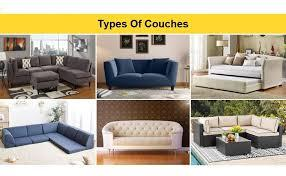chair: (30, 71, 61, 93)
light: (215, 38, 231, 55), (0, 114, 4, 129)
sofa: (198, 53, 285, 92), (0, 122, 95, 156), (193, 113, 285, 148), (6, 55, 92, 91), (100, 58, 181, 91), (100, 121, 183, 153)
table: (216, 135, 252, 156), (183, 63, 190, 88), (0, 68, 5, 85)
